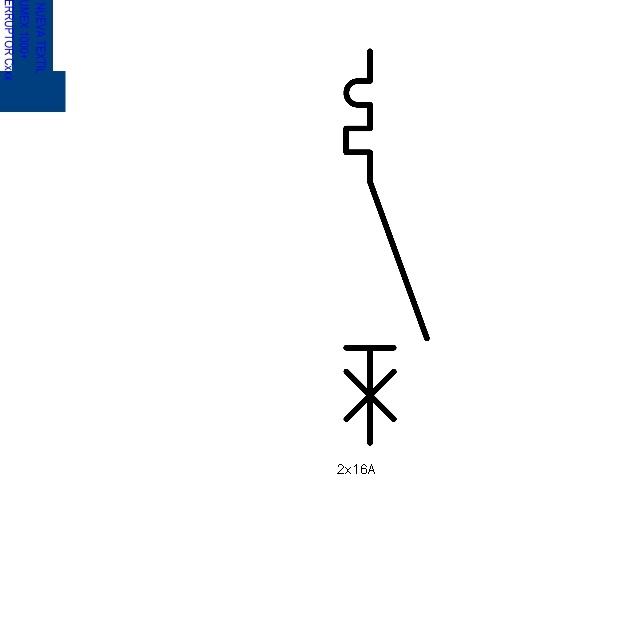interruptor_termomagnetico: (336, 41, 437, 453)
